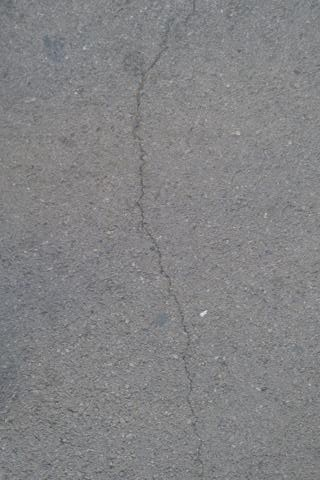A: (131, 2, 205, 456)
